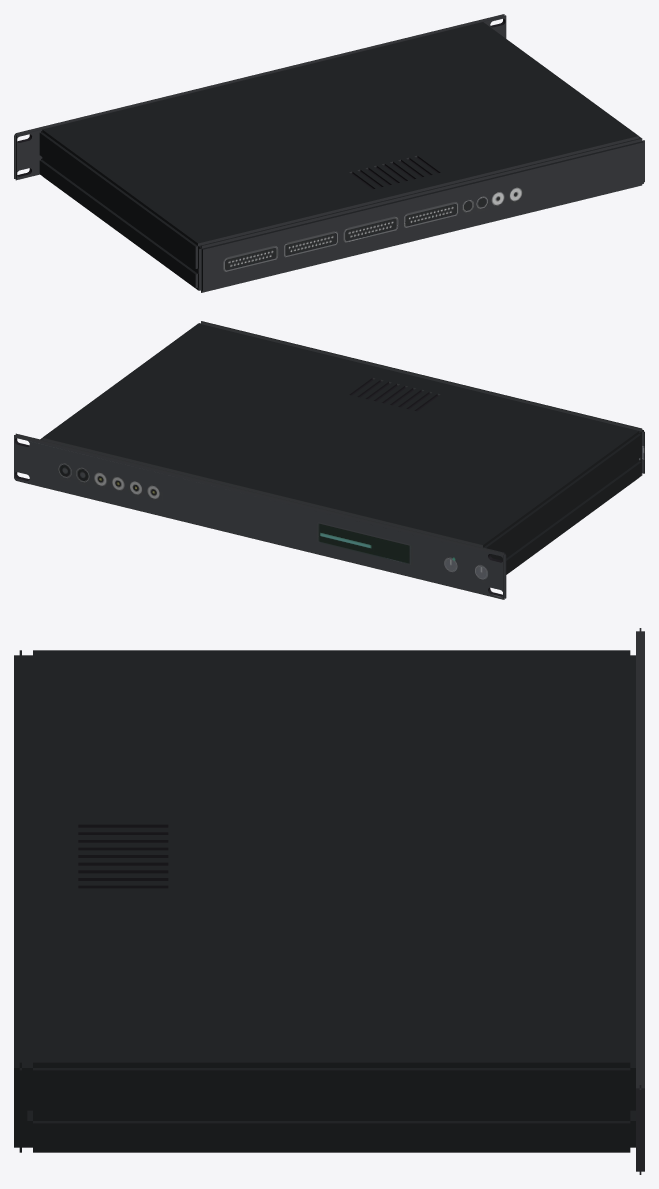
Rendered from antelope-orion-32-plus-gen4.glb.
The picture shows the model from 3 angles, top to bottom: view 1: azimuth 30°, elevation 25°; view 2: azimuth 150°, elevation 25°; view 3: azimuth 270°, elevation 25°; orthographic projection. The views are drawn at different scales.
Visible parts, largest first — view 1: antelope-orion-32-plus-gen4-body; view 2: antelope-orion-32-plus-gen4-body; view 3: antelope-orion-32-plus-gen4-body.
Boxes of the visible parts, <box> form: antelope-orion-32-plus-gen4-body: <box>14,14,644,292</box>; antelope-orion-32-plus-gen4-body: <box>14,321,644,599</box>; antelope-orion-32-plus-gen4-body: <box>14,628,644,1174</box>.
Bounding box in the file's own units: 0.483 × 0.044 × 0.28.
Materials: 1 (1 with a texture image).
